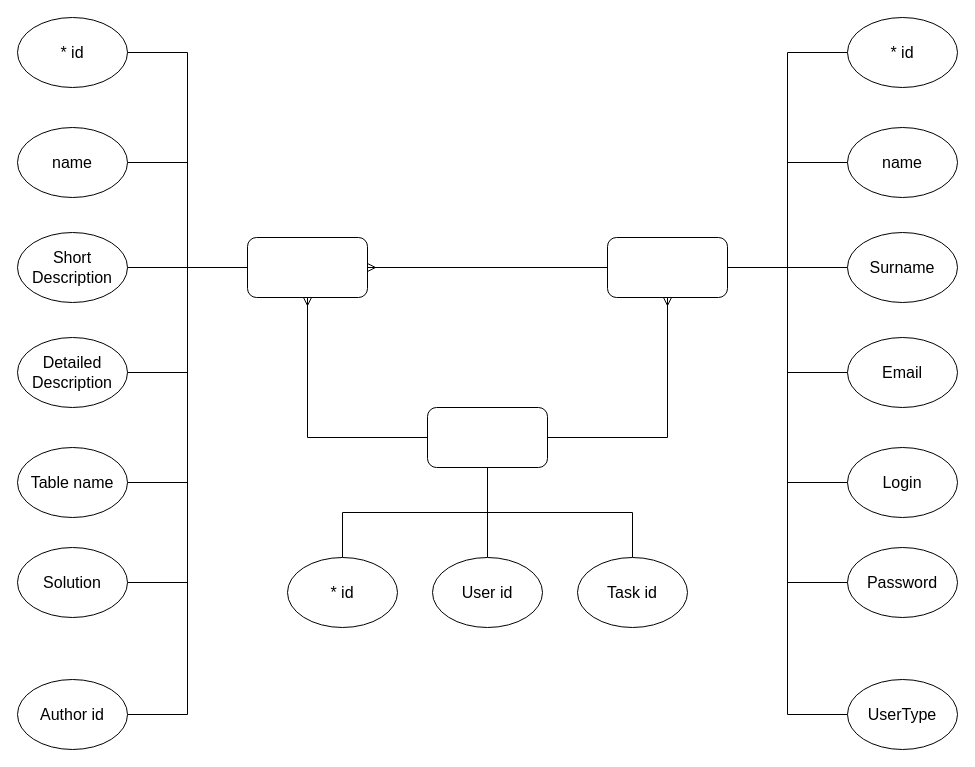
This 975x767 diagram has some shape labels left out. The centre of each missing label's shape, as x and y in pixels:
"Completed task" belongs at point 487,437.
"Task" belongs at point 307,267.
"User" belongs at point 667,267.
